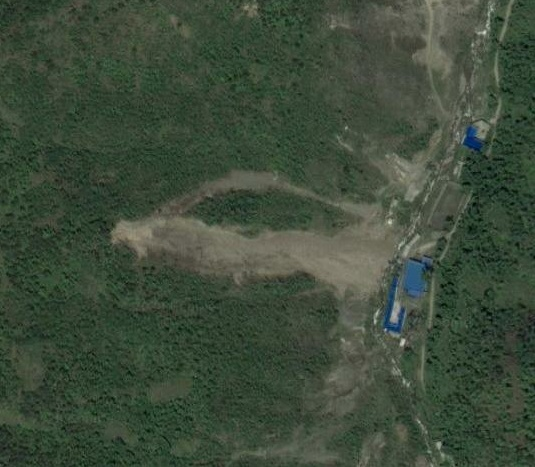slope: (107, 203, 418, 417), (365, 126, 445, 201)
